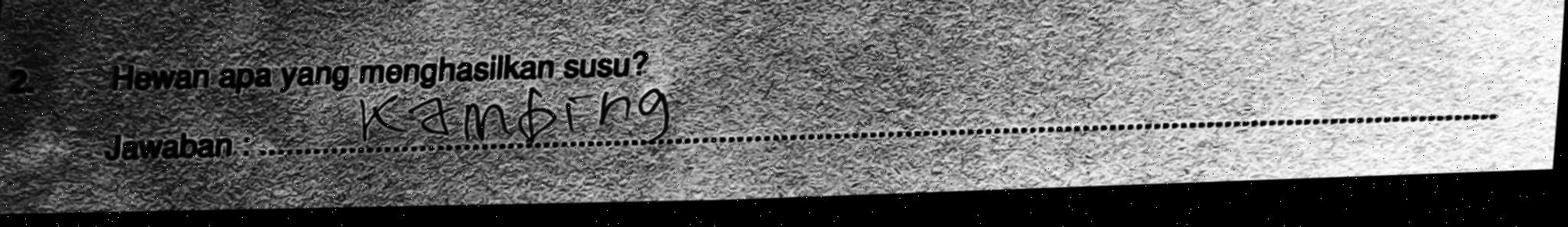jawaban: (350, 78, 687, 146)
